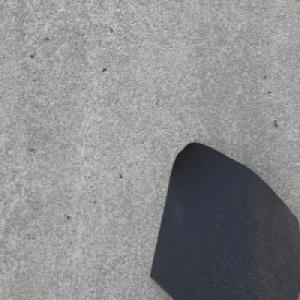PaintChip: (149, 141, 300, 300)
